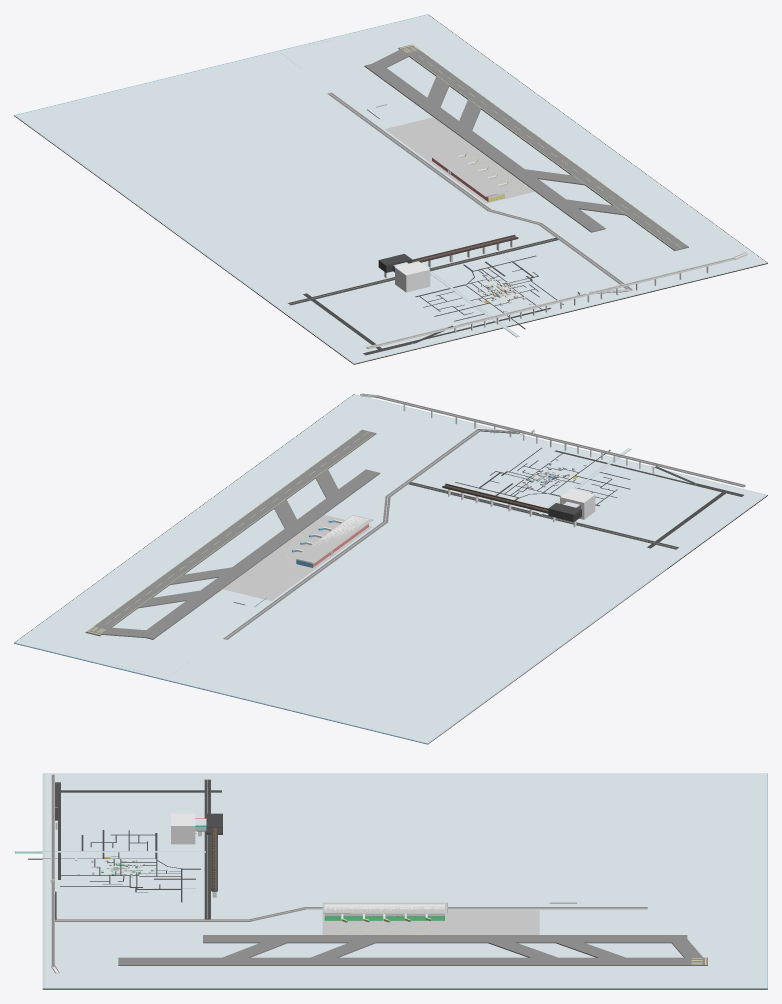
The picture shows the model from 3 angles, top to bottom: view 1: azimuth 30°, elevation 25°; view 2: azimuth 150°, elevation 25°; view 3: azimuth 270°, elevation 25°; orthographic projection. The views are drawn at different scales.
Visible parts, largest first — view 1: cube (×8); view 2: cube (×8); view 3: cube (×18), mesh.
Part boxes in pixels (bbox=[...]): cube (×8): bbox=[14, 14, 767, 364]; cube (×8): bbox=[14, 394, 767, 744]; cube (×18): bbox=[42, 773, 767, 989]; mesh: bbox=[211, 827, 217, 891].
Bounding box in the file's own units: 63.56 × 2.98 × 94.
Materials: 93 (84 with a texture image).
